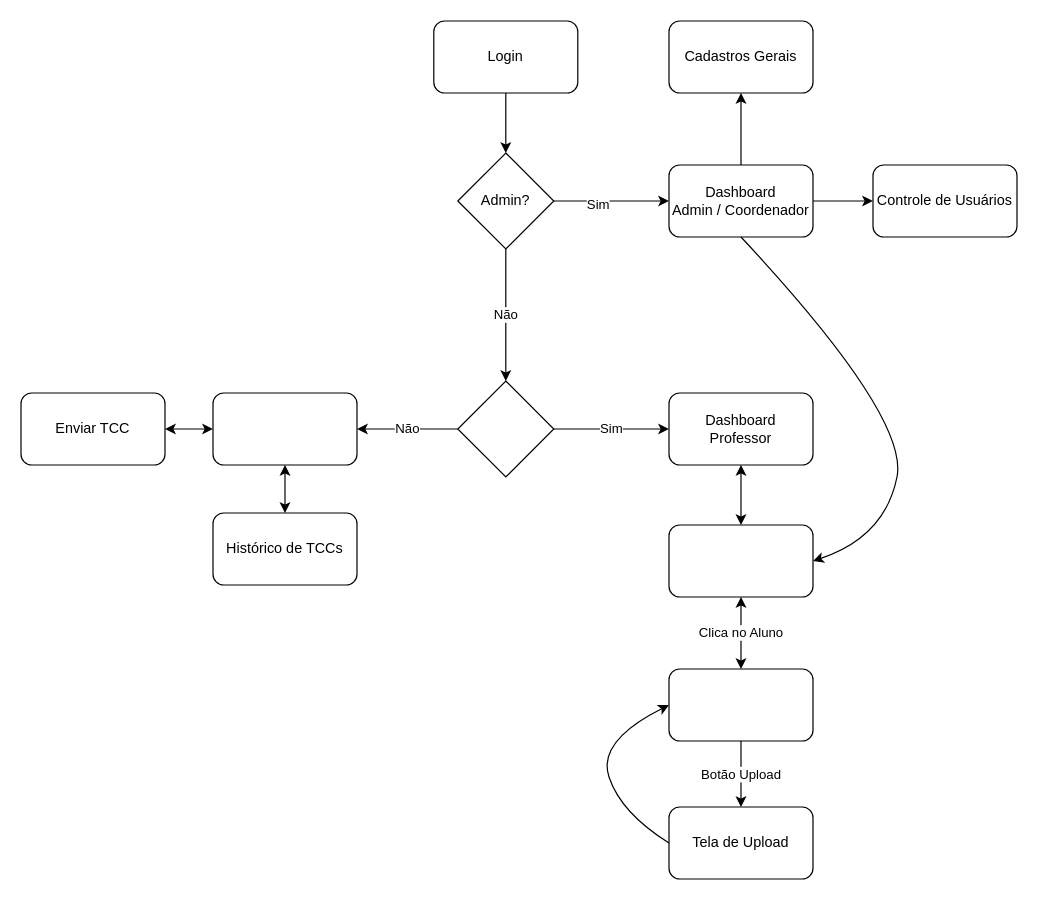
Image size: 1038x900. Some labels were removed from this diagram. The shapes that lost their labels are listed below. From the top down, each one's centre as x and y in pixels, then its label:
At (284,428): "Dashboard Aluno".
At (505,428): "Professor?".
At (740,560): "Lista de Alunos".
At (740,704): "Pagina do Aluno Lista de TCCs".
